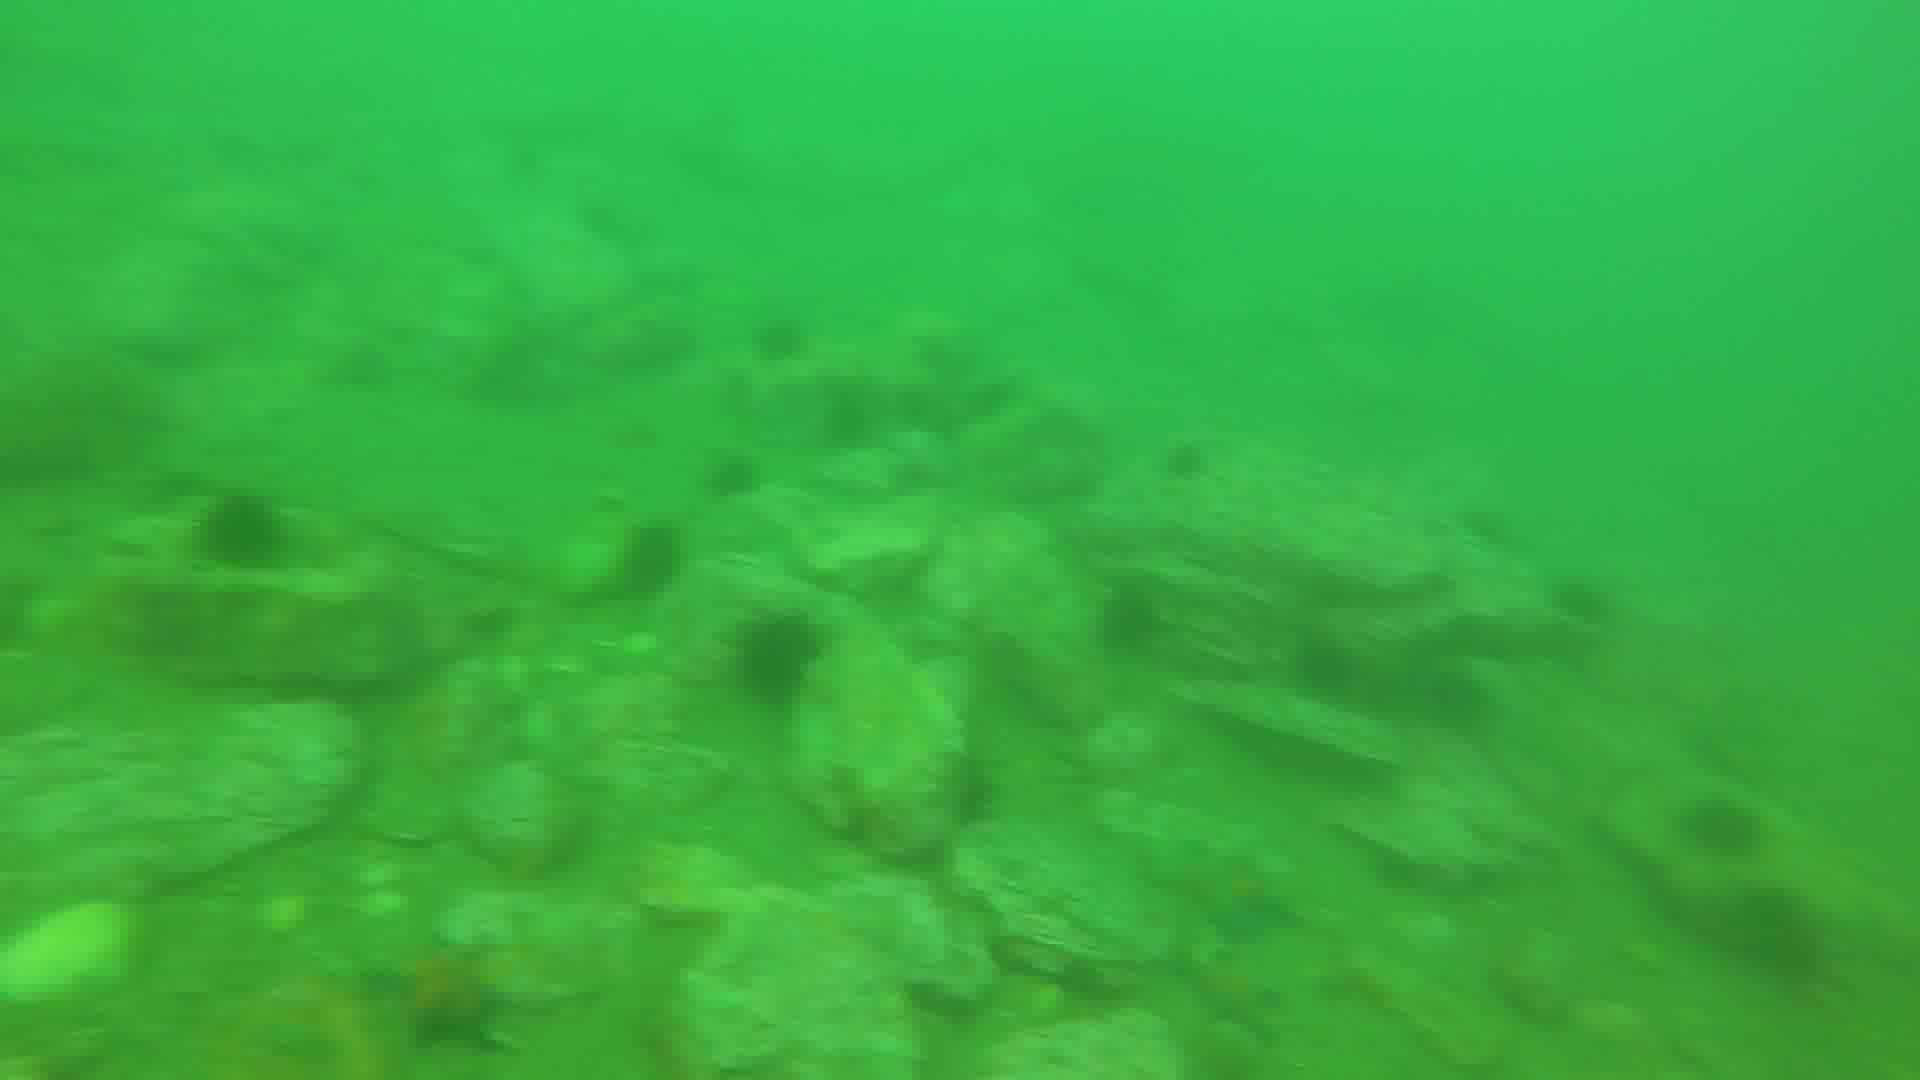echinus: (1718, 880, 1824, 989), (742, 615, 835, 707), (191, 504, 287, 584), (1298, 632, 1365, 723), (1424, 646, 1487, 735), (633, 520, 703, 593), (1557, 570, 1619, 640), (1098, 582, 1168, 642), (1691, 793, 1760, 851), (750, 303, 803, 371), (717, 451, 773, 502), (1168, 435, 1215, 483)
starfish: (373, 924, 510, 1048), (1187, 952, 1287, 1040), (1208, 861, 1308, 934)
